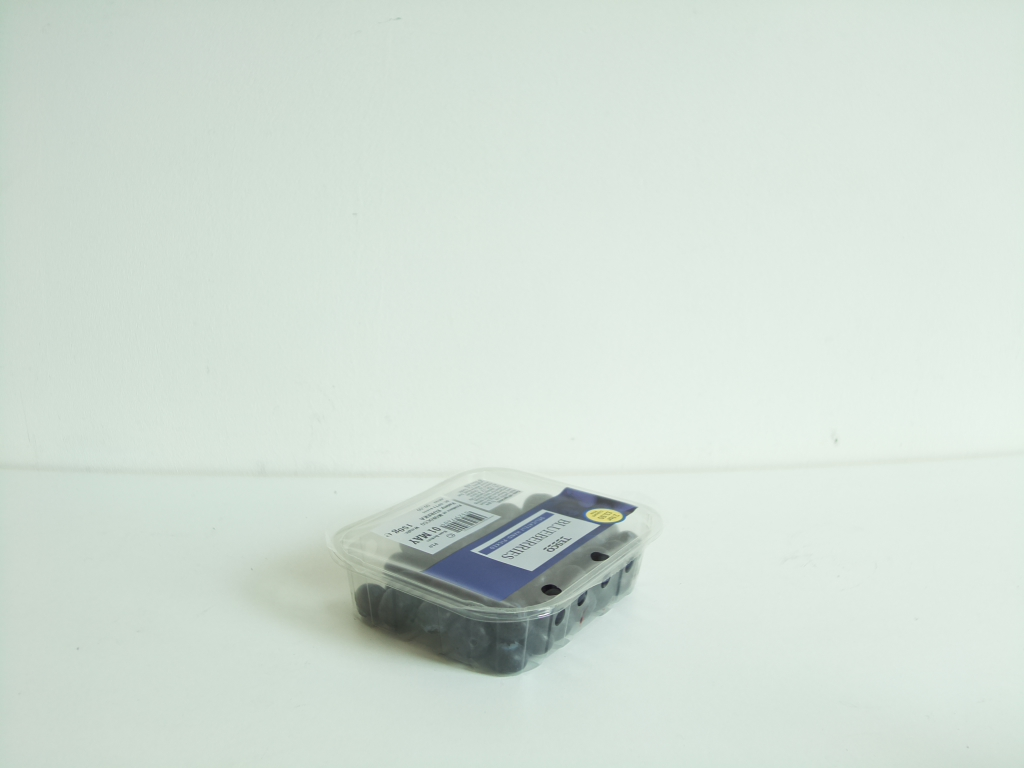soft-fruit: (333, 470, 654, 677)
